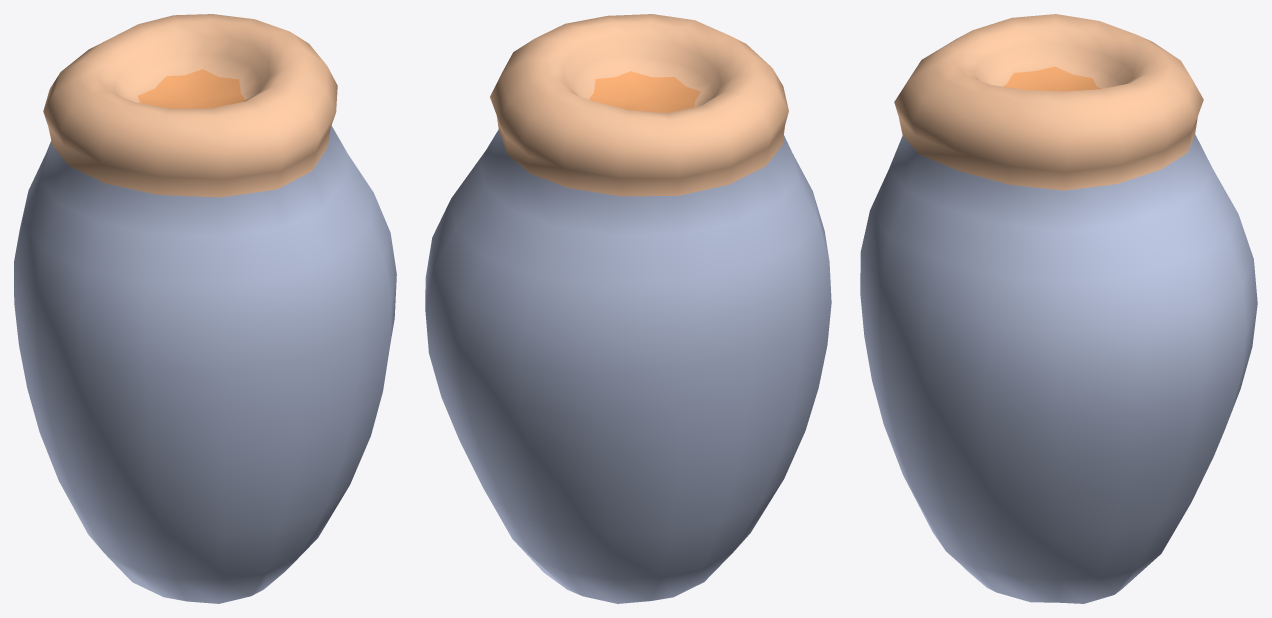
The model's file is Sponge_B_02.fbx.
3 views of the same model, side by side, from view 1: azimuth 30°, elevation 25°; view 2: azimuth 150°, elevation 25°; view 3: azimuth 270°, elevation 25° (orthographic).
Visible parts, largest first — view 1: Sponge_B_02_LOD0; view 2: Sponge_B_02_LOD0; view 3: Sponge_B_02_LOD0.
Part boxes in pixels (box(x1,y1,x2,y2)): Sponge_B_02_LOD0: box(14, 14, 396, 603); Sponge_B_02_LOD0: box(425, 14, 831, 603); Sponge_B_02_LOD0: box(860, 14, 1257, 603).
Size of what is drawn, in the model's own units: 239 by 356 by 239.
